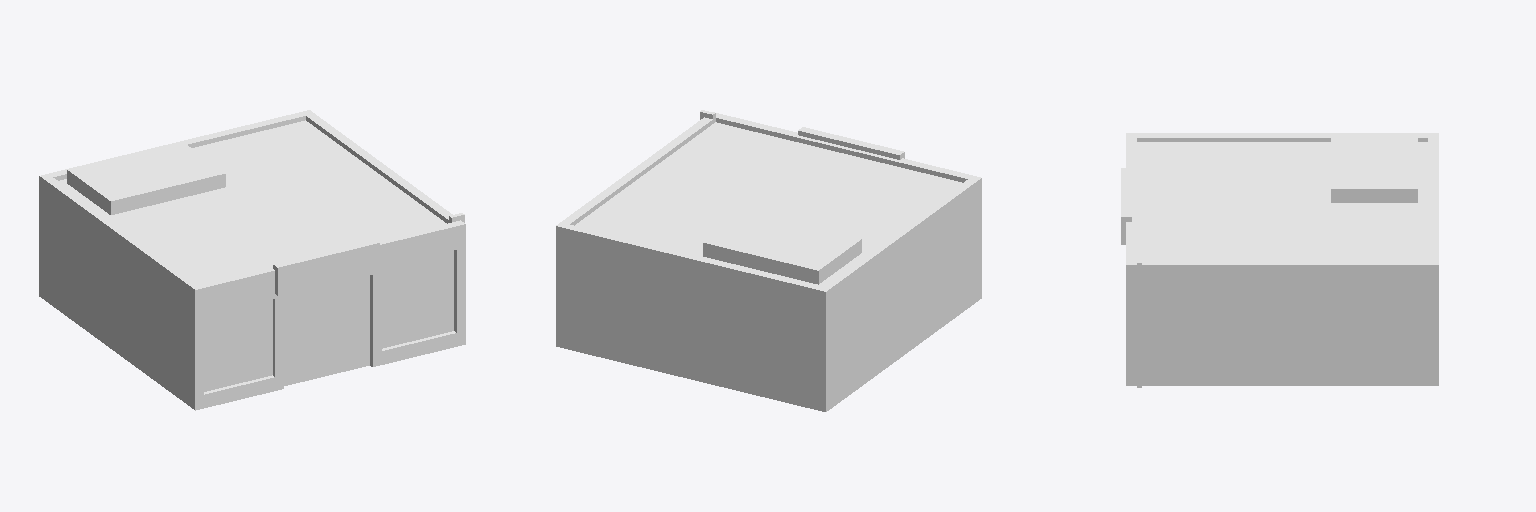
The model's file is sklep_granatowy.obj.
3 views of the same model, side by side, from view 1: azimuth 30°, elevation 25°; view 2: azimuth 150°, elevation 25°; view 3: azimuth 270°, elevation 25° (orthographic).
Parts seen in each view (by area): view 1: object 1; view 2: object 1; view 3: object 1.
Boxes of the visible parts, box(x1,y1,x2,y2) form: object 1: box(39, 110, 465, 410); object 1: box(556, 110, 981, 411); object 1: box(1121, 133, 1438, 387).
Bounding box in the file's own units: 6.2 × 2.8 × 6.2.